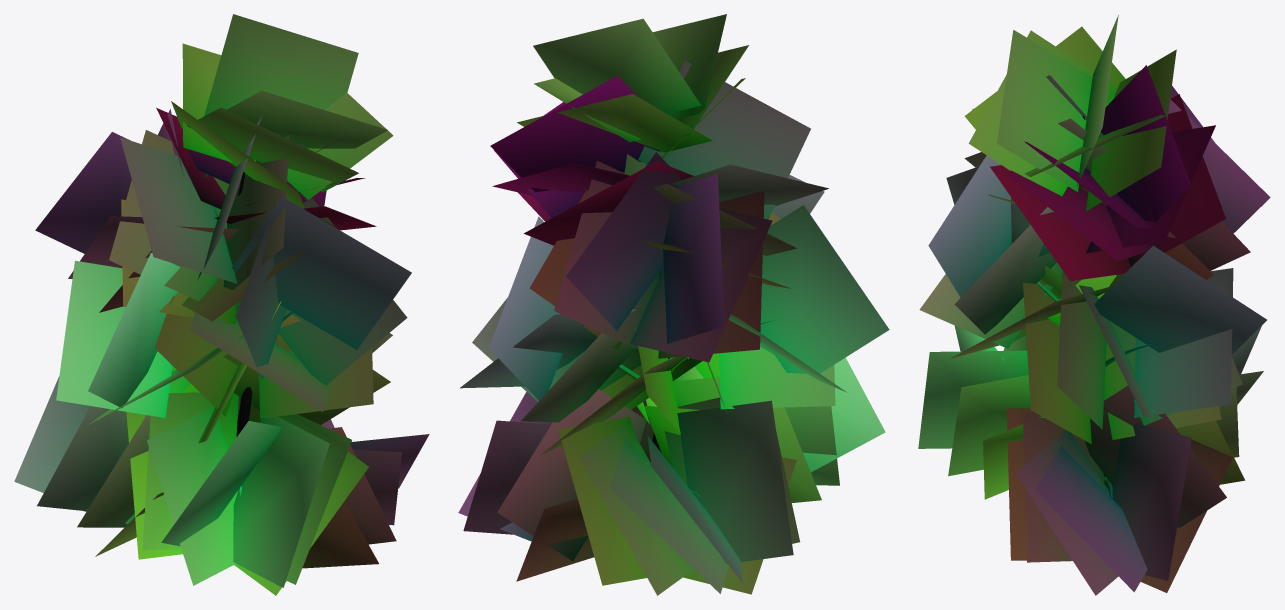
File: M_P15_Tree_3.fbx
The picture shows the model from 3 angles, left to right: view 1: azimuth 30°, elevation 25°; view 2: azimuth 150°, elevation 25°; view 3: azimuth 270°, elevation 25°; orthographic projection. The views are drawn at different scales.
Parts seen in each view (by area): view 1: Tree_3; view 2: Tree_3; view 3: Tree_3.
Boxes of the visible parts, x1,y1,x2,y2 form: Tree_3: (14,14,429,595); Tree_3: (458,14,889,595); Tree_3: (918,15,1270,595).
Bounding box in the file's own units: 523 × 761 × 456.
